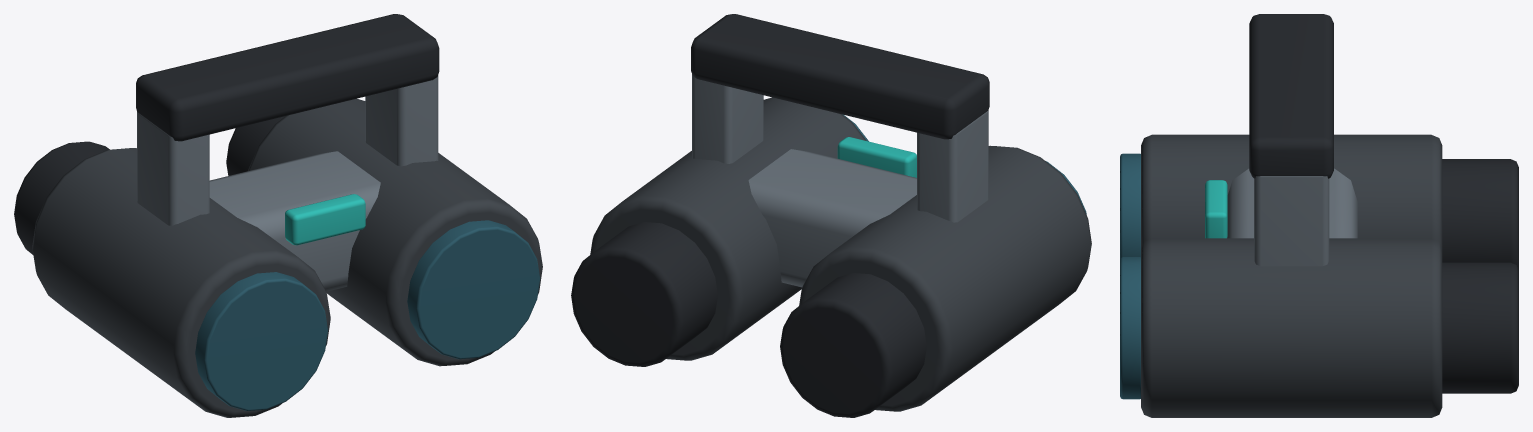
3 renders of one model, left to right at view 1: azimuth 30°, elevation 25°; view 2: azimuth 150°, elevation 25°; view 3: azimuth 270°, elevation 25°, orthographic.
Parts seen in each view (by area): view 1: R06__Optic_housing, R06__Optic_housing.001, R06__Upper_grip, R06__Objective_glass.001, R06__Objective_glass, R06__Bridge, R06__Handle_left, R06__Handle_right, R06__Eyepiece, R06__Teal_bridge, R06__Eyepiece.001; view 2: R06__Optic_housing, R06__Optic_housing.001, R06__Upper_grip, R06__Eyepiece.001, R06__Eyepiece, R06__Bridge, R06__Handle_left, R06__Handle_right, R06__Teal_bridge; view 3: R06__Optic_housing.001, R06__Optic_housing, R06__Upper_grip, R06__Eyepiece.001, R06__Eyepiece, R06__Handle_right, R06__Bridge, R06__Objective_glass.001, R06__Objective_glass, R06__Teal_bridge.
Boxes of the visible parts, box(x1,y1,x2,y2) form: R06__Optic_housing: box(32, 148, 330, 417); R06__Optic_housing.001: box(248, 98, 542, 366); R06__Upper_grip: box(136, 14, 439, 141); R06__Objective_glass.001: box(407, 220, 540, 359); R06__Objective_glass: box(195, 272, 327, 410); R06__Bridge: box(209, 151, 380, 291); R06__Handle_left: box(137, 112, 209, 225); R06__Handle_right: box(365, 75, 438, 166); R06__Eyepiece: box(14, 141, 109, 254); R06__Teal_bridge: box(285, 194, 365, 245); R06__Eyepiece.001: box(226, 116, 285, 175); R06__Optic_housing: box(799, 145, 1091, 411); R06__Optic_housing.001: box(590, 97, 866, 360); R06__Upper_grip: box(691, 14, 989, 139); R06__Eyepiece.001: box(571, 222, 717, 366); R06__Eyepiece: box(780, 273, 926, 417); R06__Bridge: box(748, 149, 916, 287); R06__Handle_left: box(917, 110, 988, 222); R06__Handle_right: box(692, 74, 763, 163); R06__Teal_bridge: box(837, 137, 916, 177); R06__Optic_housing.001: box(1141, 238, 1442, 417); R06__Optic_housing: box(1141, 134, 1442, 248); R06__Upper_grip: box(1249, 14, 1333, 178); R06__Eyepiece.001: box(1442, 262, 1518, 393); R06__Eyepiece: box(1442, 159, 1518, 270); R06__Handle_right: box(1254, 176, 1329, 266); R06__Bridge: box(1227, 168, 1357, 238); R06__Objective_glass.001: box(1120, 257, 1140, 399); R06__Objective_glass: box(1120, 153, 1140, 259); R06__Teal_bridge: box(1205, 180, 1227, 238).
Bounding box in the file's own units: 0.226 × 0.1655 × 0.2115.
